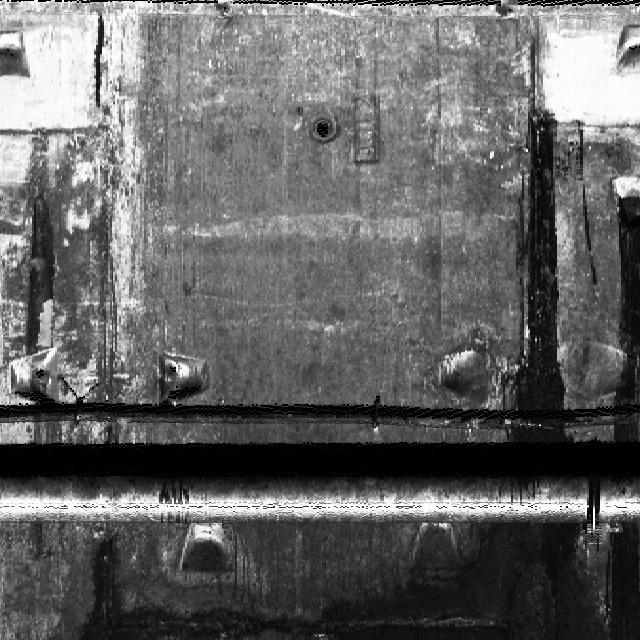leakage: (54, 517, 639, 639), (513, 24, 573, 444), (601, 180, 639, 453), (17, 183, 67, 356)
